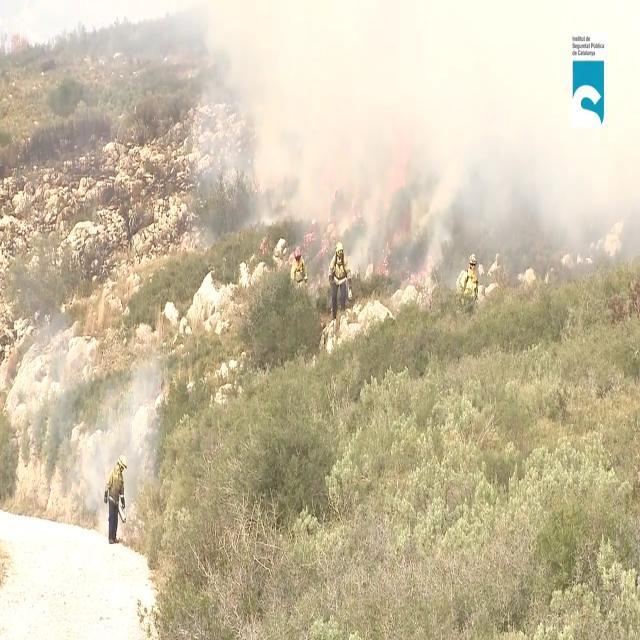Smoke: (160, 0, 588, 283)
